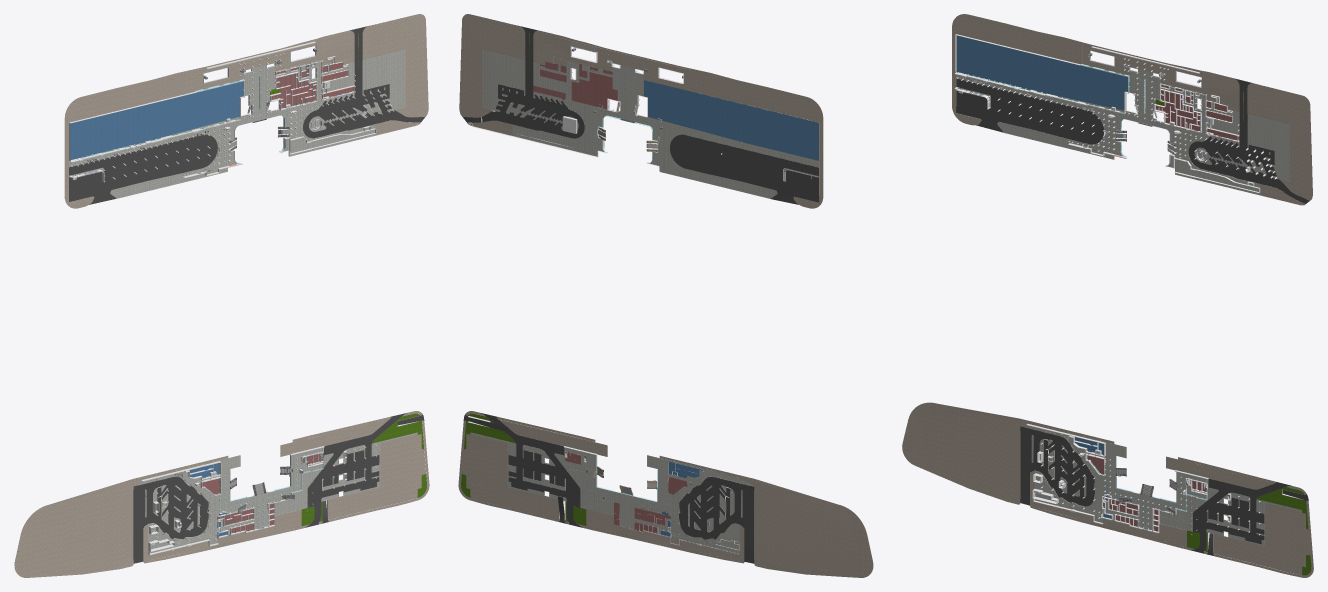
The model's file is 3_1F_LayerG_Pack.gltf.
3 views of the same model, side by side, from view 1: azimuth 30°, elevation 25°; view 2: azimuth 150°, elevation 25°; view 3: azimuth 330°, elevation 25° (orthographic).
Parts seen in each view (by area): view 1: object 22, object 17; view 2: object 22, object 17; view 3: object 22, object 17.
Boxes of the visible parts, x1=… form: object 22: x1=14, y1=14, x2=429, y2=577; object 17: x1=69, y1=41, x2=418, y2=555; object 22: x1=458, y1=14, x2=873, y2=577; object 17: x1=468, y1=46, x2=818, y2=559; object 22: x1=902, y1=14, x2=1313, y2=577; object 17: x1=954, y1=34, x2=1303, y2=552.
Bounding box in the file's own units: 709 × 796 × 19.81.
36 materials, 22 textured.
